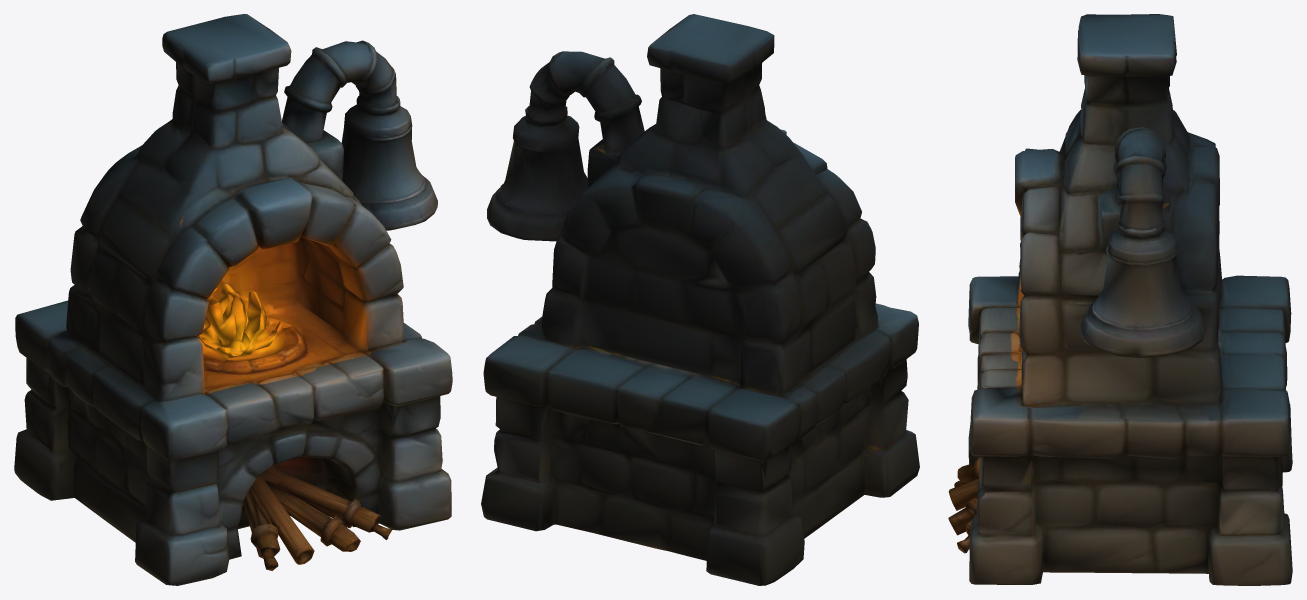
The model's file is forge.opt.glb.
3 views of the same model, side by side, from view 1: azimuth 30°, elevation 25°; view 2: azimuth 150°, elevation 25°; view 3: azimuth 270°, elevation 25° (orthographic). The views are drawn at different scales.
Visible parts, largest first — view 1: node_0; view 2: node_0; view 3: node_0.
Boxes of the visible parts, x1=… form: node_0: x1=14, y1=14, x2=452, y2=585; node_0: x1=481, y1=14, x2=919, y2=585; node_0: x1=948, y1=14, x2=1292, y2=585.
Bounding box in the file's own units: 0.6703 × 0.8597 × 0.5591.
1 material, 1 textured.
